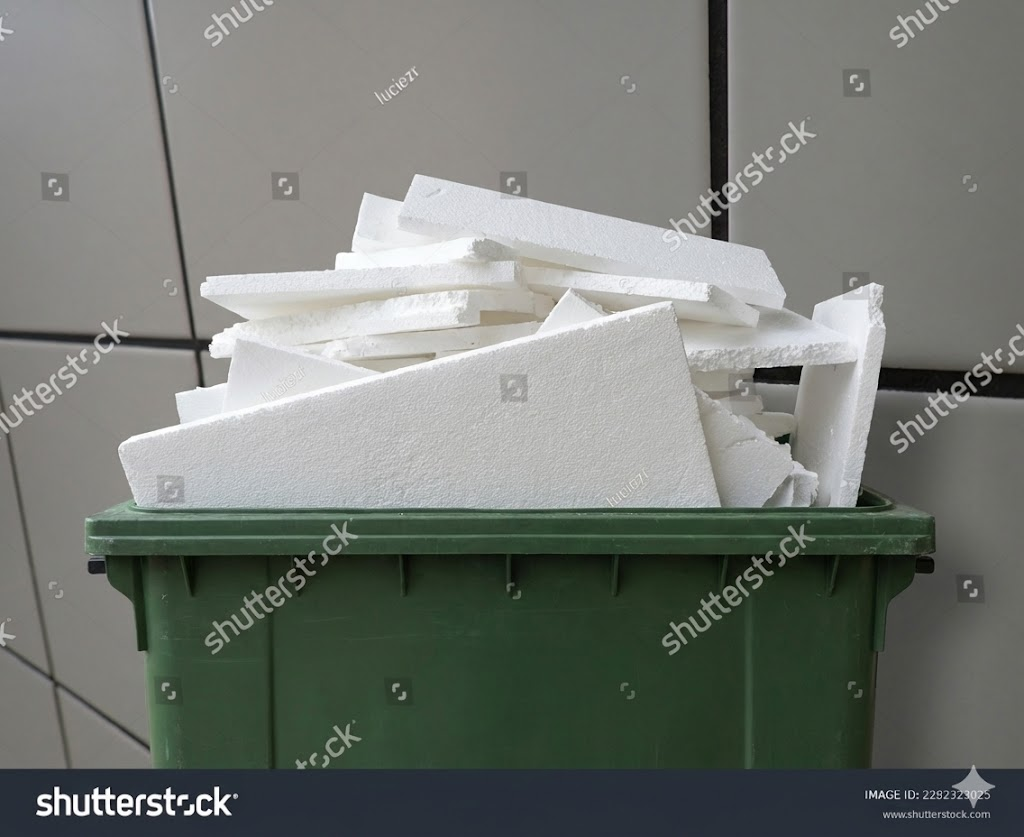bin_full: (85, 175, 934, 768)
